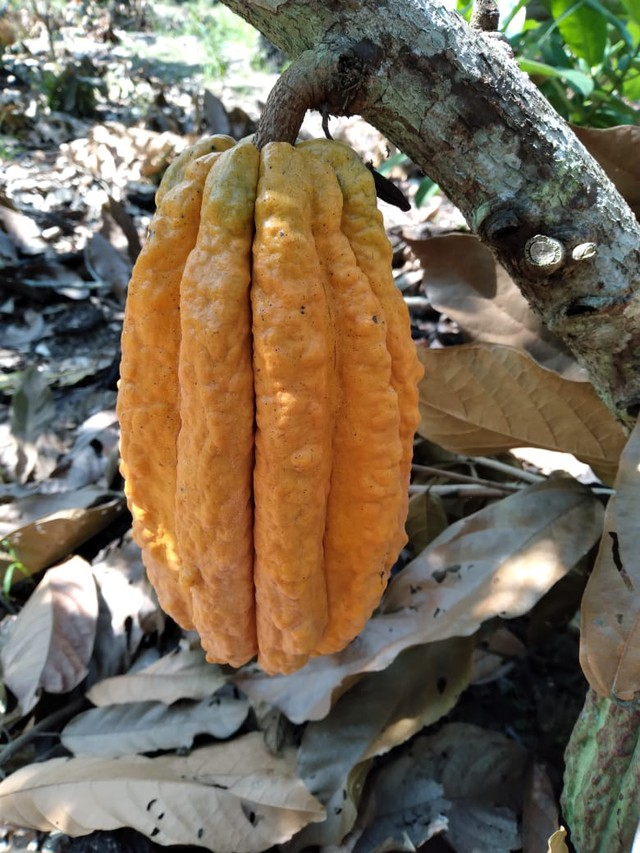Health: (117, 127, 430, 677)
